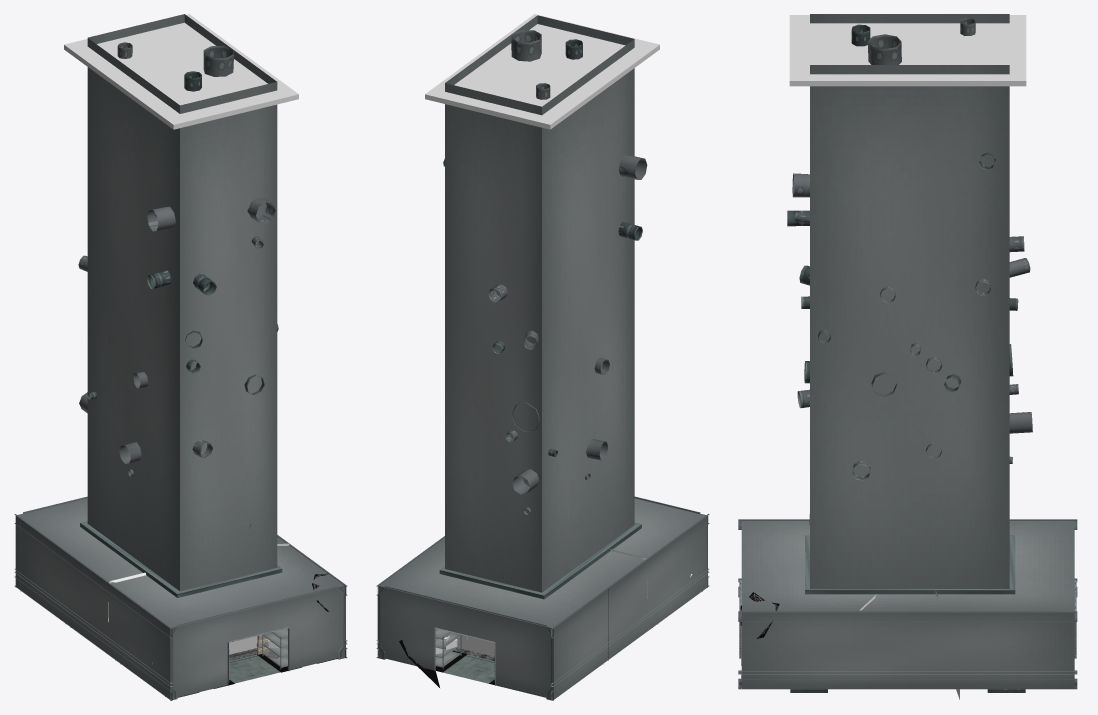
File: stranger_shop.fbx
3 renders of one model, left to right at view 1: azimuth 30°, elevation 25°; view 2: azimuth 150°, elevation 25°; view 3: azimuth 270°, elevation 25°, orthographic. The views are drawn at different scales.
Parts seen in each view (by area): view 1: Walls, Lights, Pipes, Big Vent Covering, Shelving Unit, Floor, Cube; view 2: Walls, Lights, Pipes, Big Vent Covering, Floor, Shelving Unit, Cube, Lights_Beaming; view 3: Walls, Lights, Pipes, Big Vent Covering.
Boxes of the visible parts, x1=… form: Walls: x1=14, y1=14, x2=347, y2=700; Lights: x1=64, y1=14, x2=298, y2=129; Pipes: x1=78, y1=42, x2=278, y2=530; Big Vent Covering: x1=80, y1=521, x2=282, y2=597; Shelving Unit: x1=178, y1=628, x2=337, y2=697; Floor: x1=170, y1=652, x2=344, y2=699; Cube: x1=20, y1=519, x2=345, y2=700; Walls: x1=376, y1=15, x2=709, y2=700; Lights: x1=425, y1=14, x2=659, y2=129; Pipes: x1=443, y1=30, x2=647, y2=514; Big Vent Covering: x1=439, y1=522, x2=641, y2=599; Floor: x1=443, y1=650, x2=494, y2=683; Shelving Unit: x1=435, y1=628, x2=494, y2=685; Cube: x1=377, y1=514, x2=707, y2=700; Lights_Beaming: x1=453, y1=632, x2=494, y2=656; Walls: x1=738, y1=14, x2=1077, y2=689; Lights: x1=789, y1=15, x2=1026, y2=86; Pipes: x1=787, y1=18, x2=1032, y2=524; Big Vent Covering: x1=805, y1=535, x2=1015, y2=594.
Size of what is drawn, in the model's own units: 1878 by 5871 by 2903.
